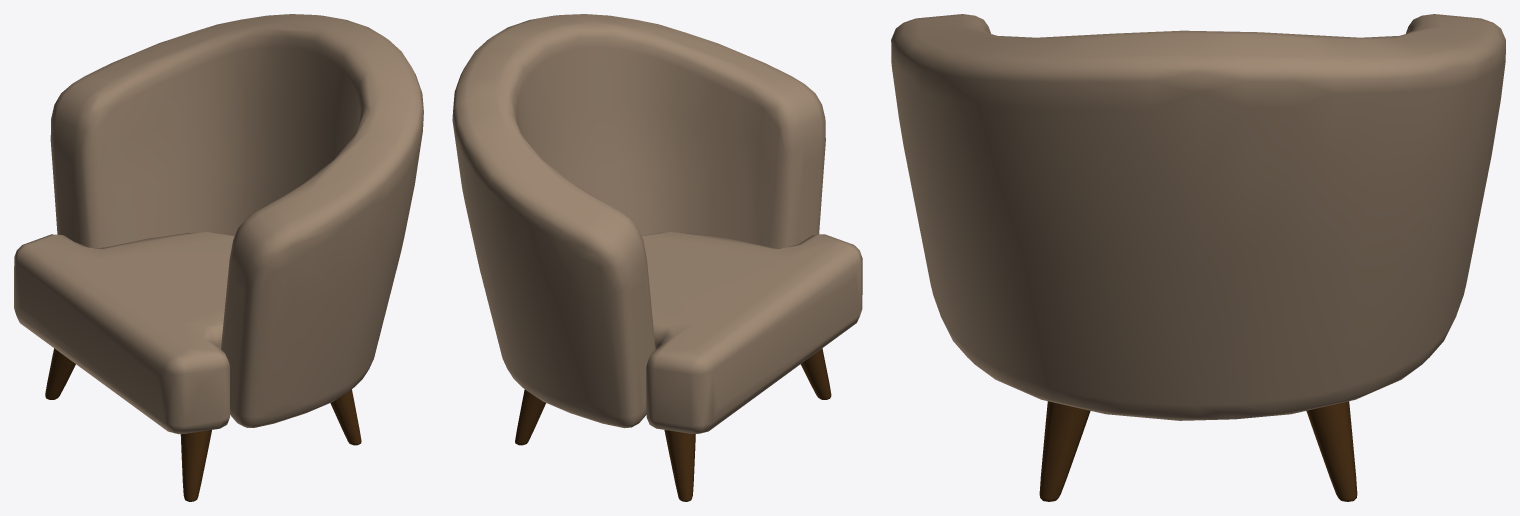
Rendered from armchair_07_dark_brown.fbx.
3 views of the same model, side by side, from view 1: azimuth 30°, elevation 25°; view 2: azimuth 150°, elevation 25°; view 3: azimuth 270°, elevation 25° (orthographic). The views are drawn at different scales.
Parts seen in each view (by area): view 1: armchair_07_dark_brown; view 2: armchair_07_dark_brown; view 3: armchair_07_dark_brown.
Boxes of the visible parts, x1,y1,x2,y2 form: armchair_07_dark_brown: [14, 14, 423, 501]; armchair_07_dark_brown: [452, 14, 862, 501]; armchair_07_dark_brown: [891, 14, 1505, 501].
Size of the model in its own units: 102 by 114 by 128.
Materials: 2 (2 with a texture image).
